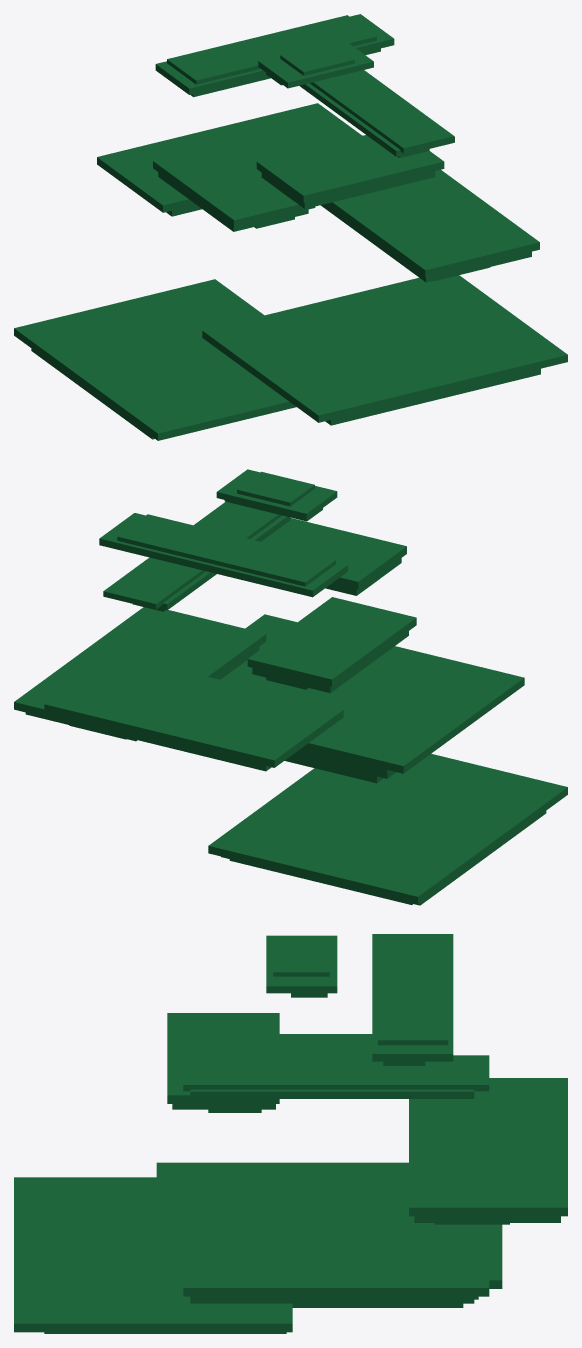
Rendered from Pine (Shrubs).glb.
3 renders of one model, top to bottom at view 1: azimuth 30°, elevation 25°; view 2: azimuth 150°, elevation 25°; view 3: azimuth 270°, elevation 25°, orthographic. The views are drawn at different scales.
Visible parts, largest first — view 1: Shrubs; view 2: Shrubs; view 3: Shrubs.
Part boxes in pixels (<box>): Shrubs: <box>14,14,567,440</box>; Shrubs: <box>14,469,567,905</box>; Shrubs: <box>14,934,567,1333</box>.
Size of the model in its own units: 3.21 by 2.37 by 3.26.
